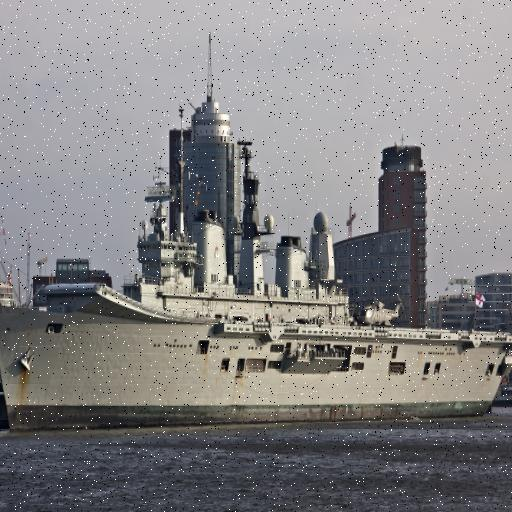Portanaves: (1, 148, 512, 439)
